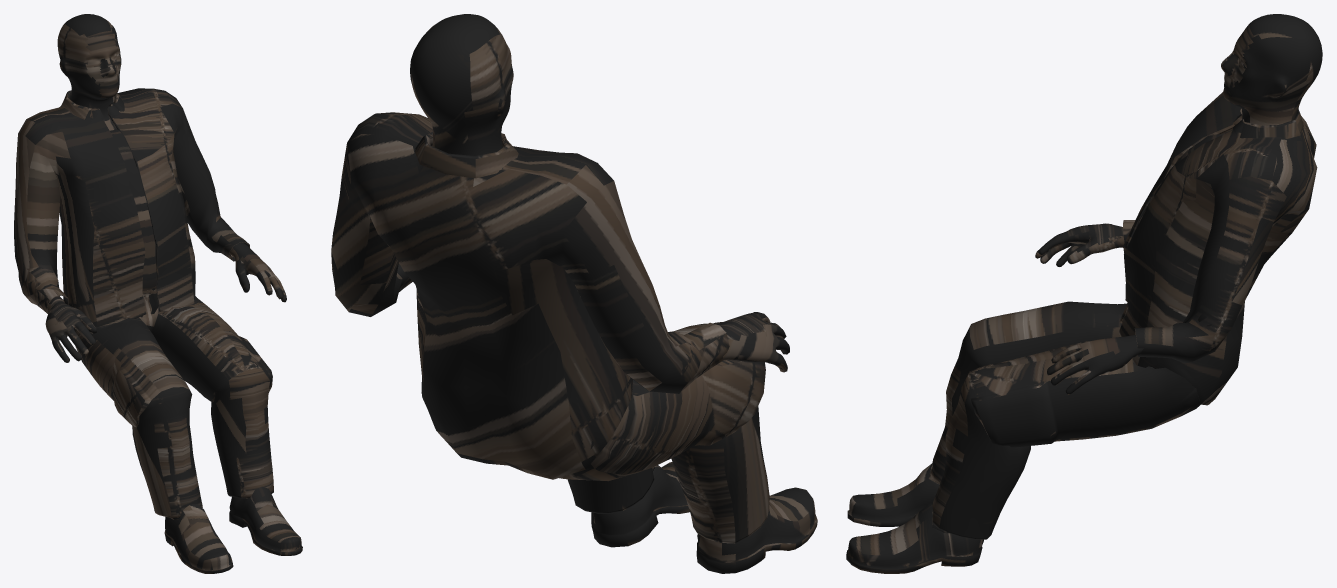
File: HumanSitting.gltf
3 views of the same model, side by side, from view 1: azimuth 30°, elevation 25°; view 2: azimuth 150°, elevation 25°; view 3: azimuth 270°, elevation 25° (orthographic). The views are drawn at different scales.
Parts seen in each view (by area): view 1: HumanSitting; view 2: HumanSitting; view 3: HumanSitting.
Boxes of the visible parts, x1,y1,x2,y2 form: HumanSitting: (14,14,302,573); HumanSitting: (331,14,817,573); HumanSitting: (846,14,1322,573).
Bounding box in the file's own units: 0.7547 × 1.32 × 1.09.
